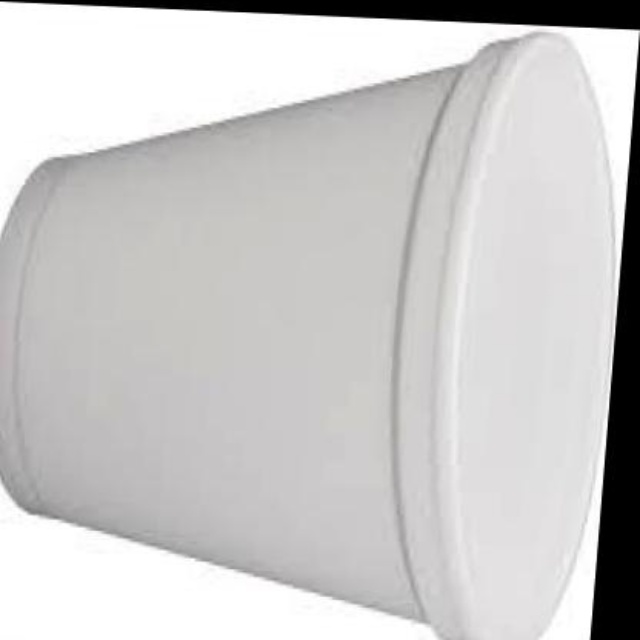trash: (0, 32, 631, 638)
